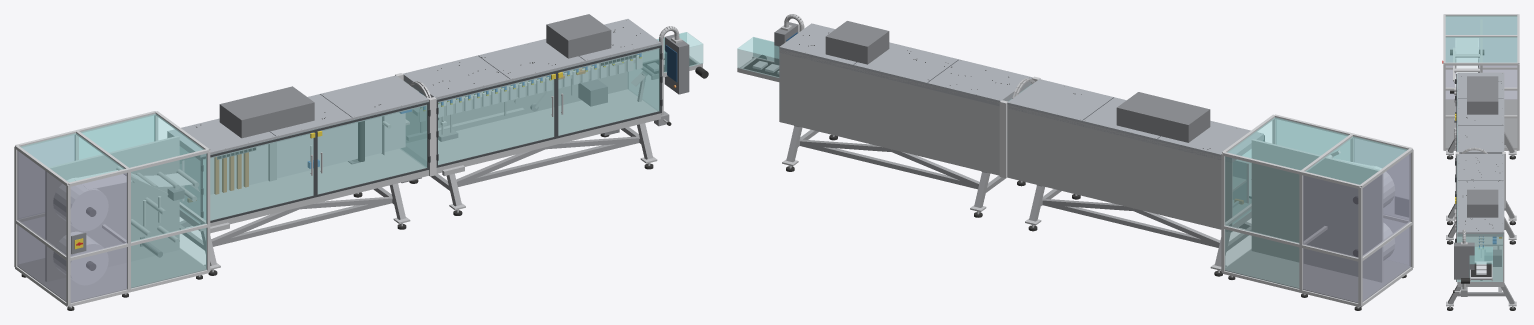
Rendered from volpak-si360.glb.
3 renders of one model, left to right at view 1: azimuth 30°, elevation 25°; view 2: azimuth 150°, elevation 25°; view 3: azimuth 270°, elevation 25°, orthographic. The views are drawn at different scales.
Visible parts, largest first — view 1: Unw_Panel_R-0.65, Unw_Mount_Plate, M2_Base_Beam, M2_Door1_Glass, M1_Base_Beam, M1_Door2_Glass, M1_Door1_Glass, M2_Top_Deck, M2_Door2_Glass, Unw_Panel_Top, Unw_Panel_L-0.65, Film_Web_Folded (+30 smaller); view 2: M1_Rear_Wall, M2_Rear_Wall, Unw_Mount_Plate, Unw_Panel_R0.65, Unw_Panel_L0.65, Unw_Panel_Top, M2_Top_Deck, Unw_Panel_End, M1_Top_Deck, Unw_Base, M1_Elec_Box, DET_M2_Legs_Truss (+21 smaller); view 3: Unw_Panel_Top, Unw_Panel_End, M2_Top_Deck, M1_Top_Deck, M1_Elec_Box, M2_End_R, Unw_Base, M2_Elec_Box, M2_Base_Beam, HMI_Housing, DET_M2_Legs_Truss, Conveyor_Guard_Top (+31 smaller).
Part boxes in pixels (x1,y1,x2,y2): Unw_Panel_R-0.65: (131, 153, 206, 288); Unw_Mount_Plate: (45, 136, 179, 281); M2_Base_Beam: (406, 89, 660, 173); M2_Door1_Glass: (438, 74, 554, 164); M1_Base_Beam: (179, 148, 428, 231); M1_Door2_Glass: (317, 105, 427, 194); M1_Door1_Glass: (203, 129, 313, 220); M2_Top_Deck: (403, 19, 660, 99); M2_Door2_Glass: (558, 48, 659, 135); Unw_Panel_Top: (20, 114, 203, 182); Unw_Panel_L-0.65: (70, 173, 126, 302); Film_Web_Folded: (182, 112, 405, 201); M1_Rear_Wall: (1007, 105, 1232, 225); M2_Rear_Wall: (779, 49, 999, 168); Unw_Mount_Plate: (1251, 139, 1382, 282); Unw_Panel_R0.65: (1225, 156, 1299, 288); Unw_Panel_L0.65: (1303, 175, 1358, 302); Unw_Panel_Top: (1227, 117, 1407, 184); M2_Top_Deck: (779, 23, 1032, 102); Unw_Panel_End: (1362, 153, 1410, 301); M1_Top_Deck: (1007, 79, 1263, 159); Unw_Base: (1224, 249, 1410, 302); M1_Elec_Box: (1116, 92, 1210, 142); DET_M2_Legs_Truss: (786, 125, 1005, 207); Unw_Panel_Top: (1445, 16, 1517, 62); Unw_Panel_End: (1445, 17, 1517, 99); M2_Top_Deck: (1457, 154, 1504, 233); M1_Top_Deck: (1457, 72, 1504, 153); M1_Elec_Box: (1467, 76, 1498, 114); M2_End_R: (1457, 234, 1503, 281); Unw_Base: (1445, 99, 1517, 148); M2_Elec_Box: (1467, 189, 1498, 217); M2_Base_Beam: (1457, 236, 1504, 286); HMI_Housing: (1454, 242, 1474, 279); DET_M2_Legs_Truss: (1448, 217, 1514, 304); Conveyor_Guard_Top: (1470, 246, 1492, 264).
Bounding box in the file's own units: 9.43 × 1.86 × 1.35.
